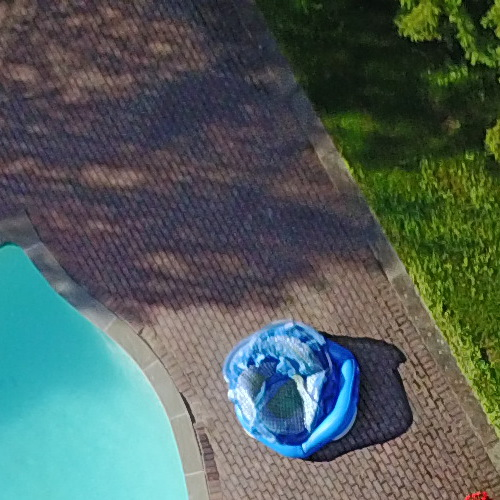toy: (211, 305, 376, 474)
